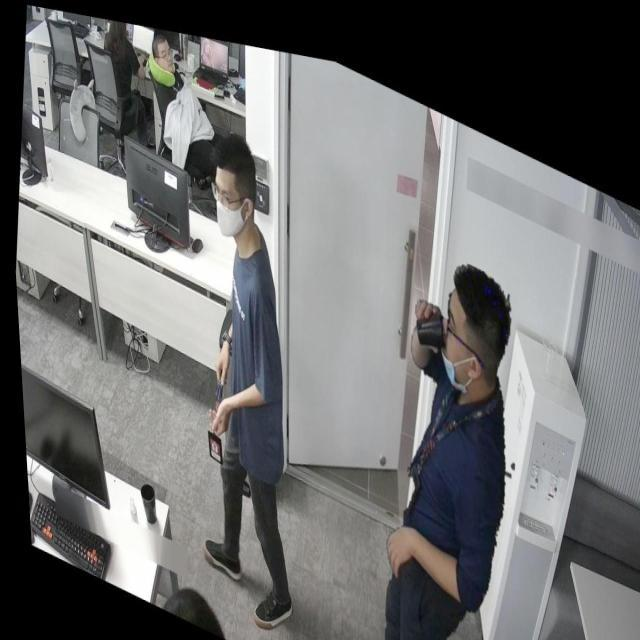hairnet: (440, 330, 479, 392)
mask: (211, 198, 251, 242)
no_hairnet: (160, 54, 179, 72)
